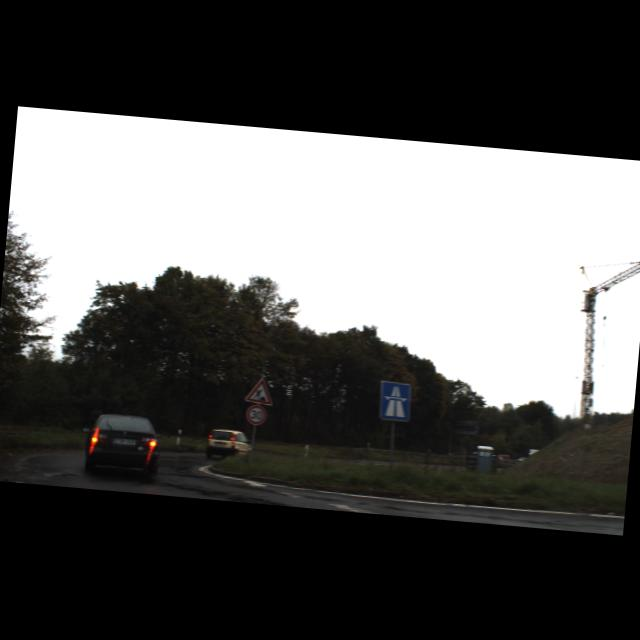danger: (244, 376, 274, 404)
prohibitory: (243, 402, 266, 425)
